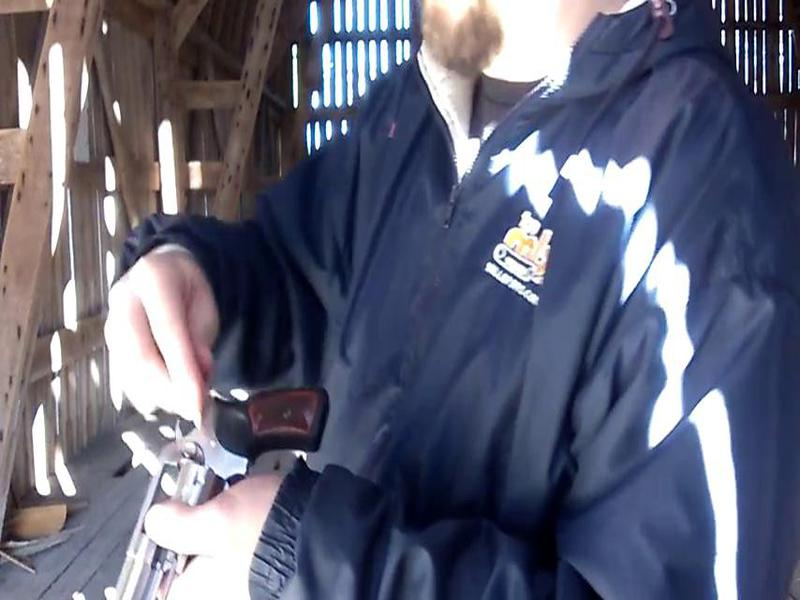Revolver: (106, 383, 343, 600)
